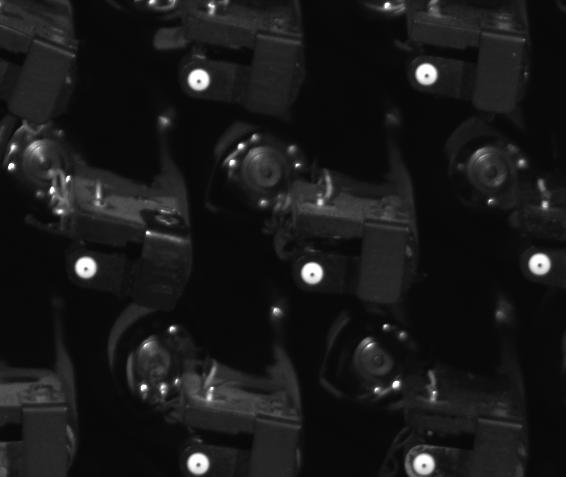fiber: (521, 246, 557, 281), (410, 57, 446, 90), (296, 256, 332, 289), (70, 250, 103, 286), (408, 449, 446, 477), (182, 67, 216, 97), (183, 448, 216, 477)
